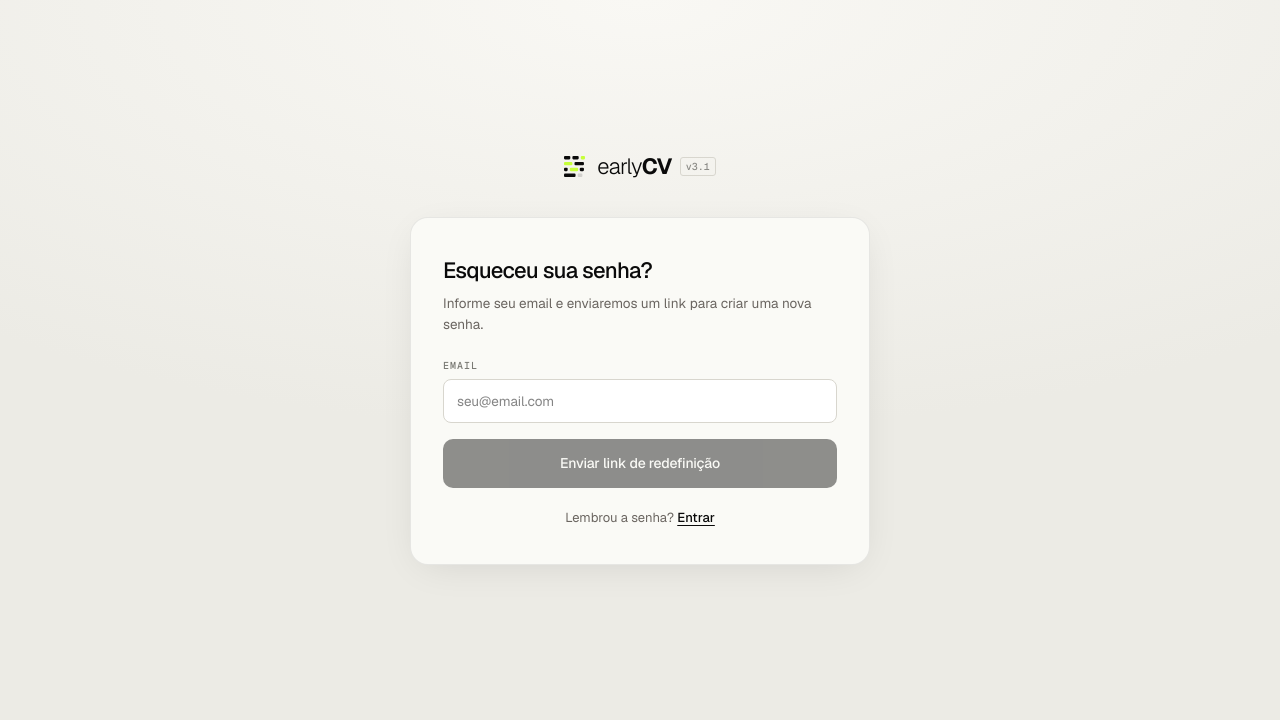
Test: EsqueceuSenhaPage › mostra estado de sucesso apos submit ok
Type "user@earlycv.dev" into the field labelled "Email".
click(640, 401); type("user@earlycv.dev")  # box [443, 379, 837, 423]
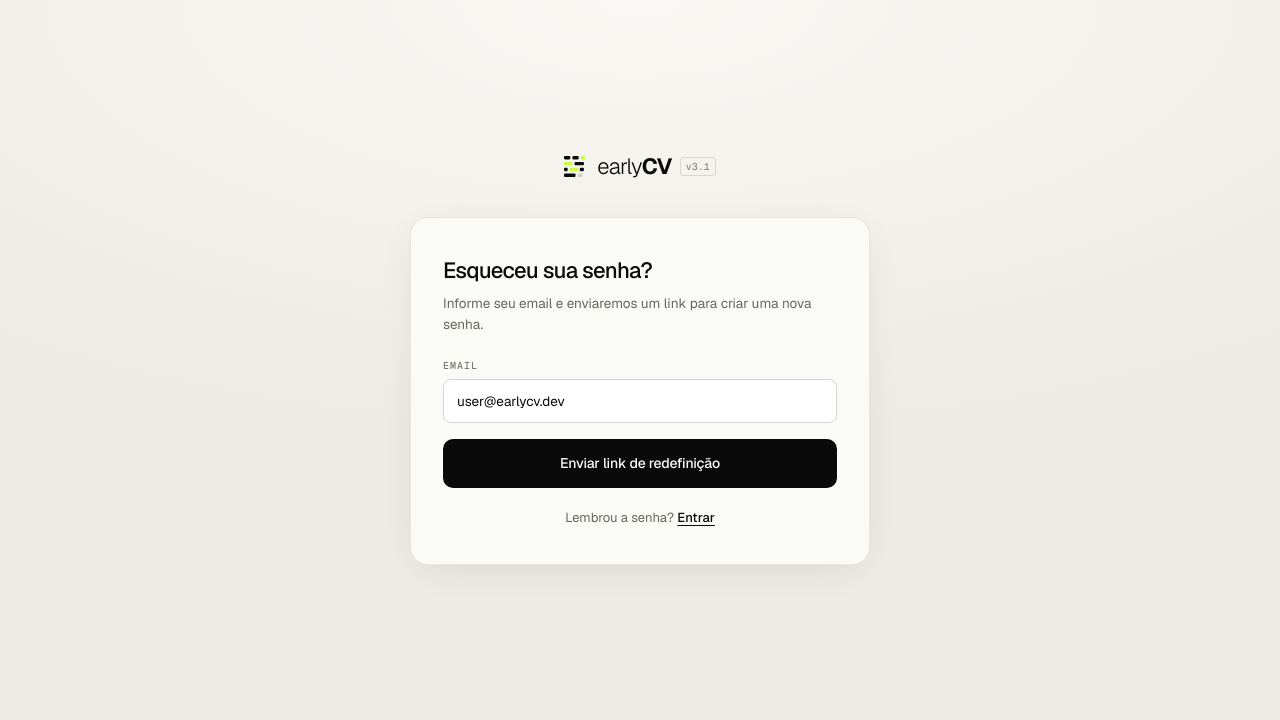
Click the button "Enviar link de redefinição".
click(640, 464)  # box [443, 439, 837, 488]
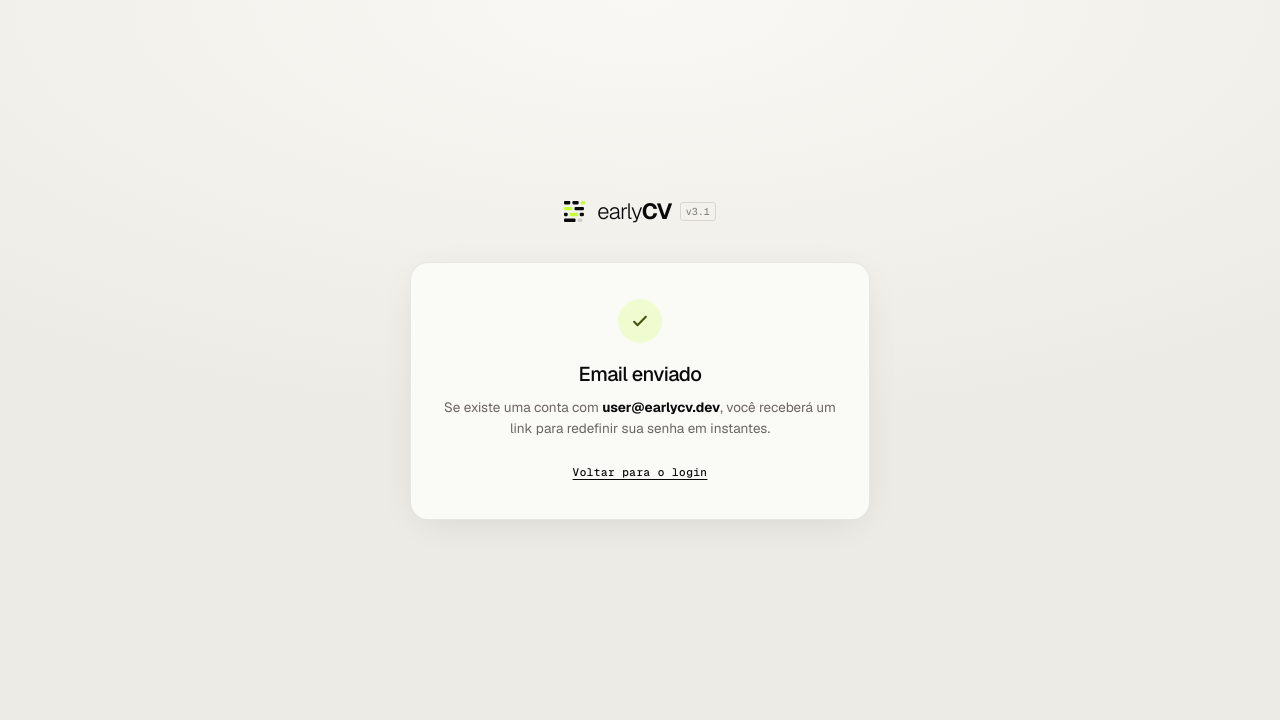
Check: the heading "Email enviado" is shown, box [578, 361, 702, 387]
